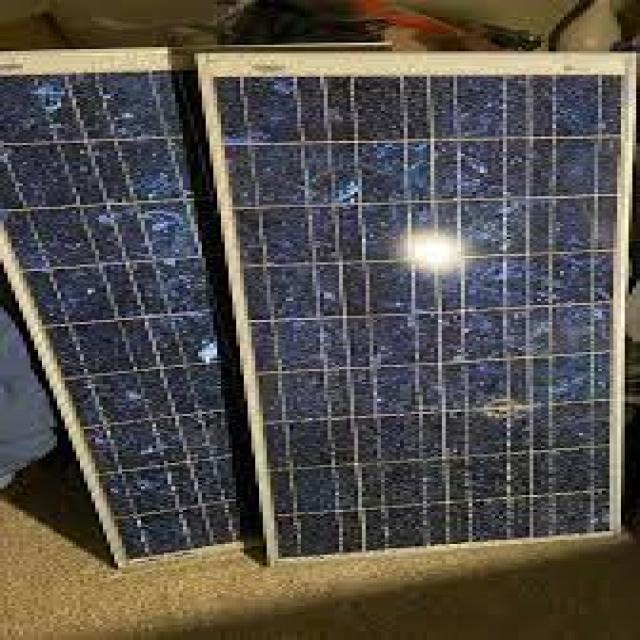faulty: (222, 65, 640, 535), (0, 68, 287, 562)
